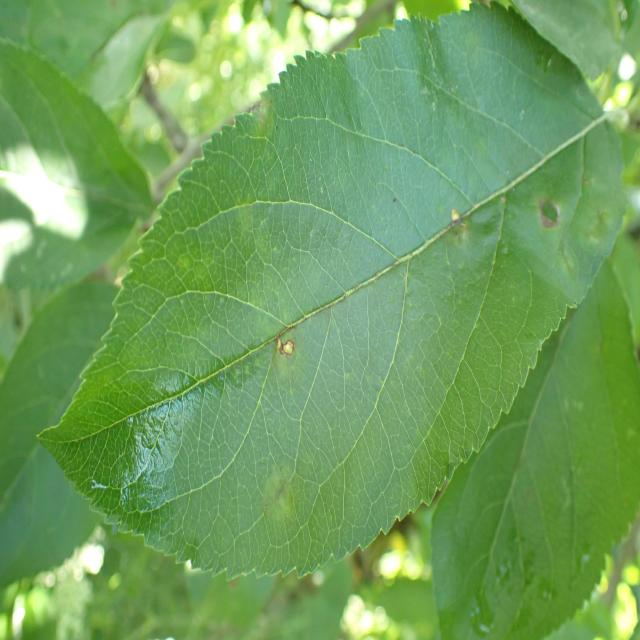scab: (155, 136, 622, 524)
